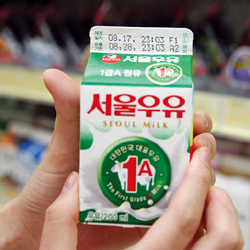milk: (80, 26, 195, 225)
